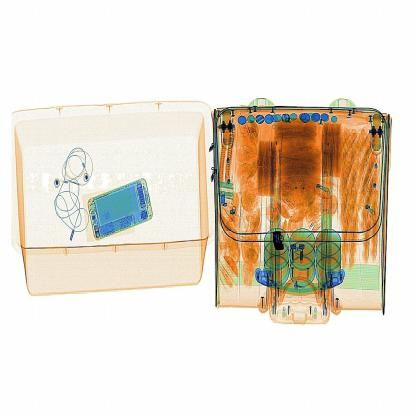pliers: (262, 225, 300, 258)
